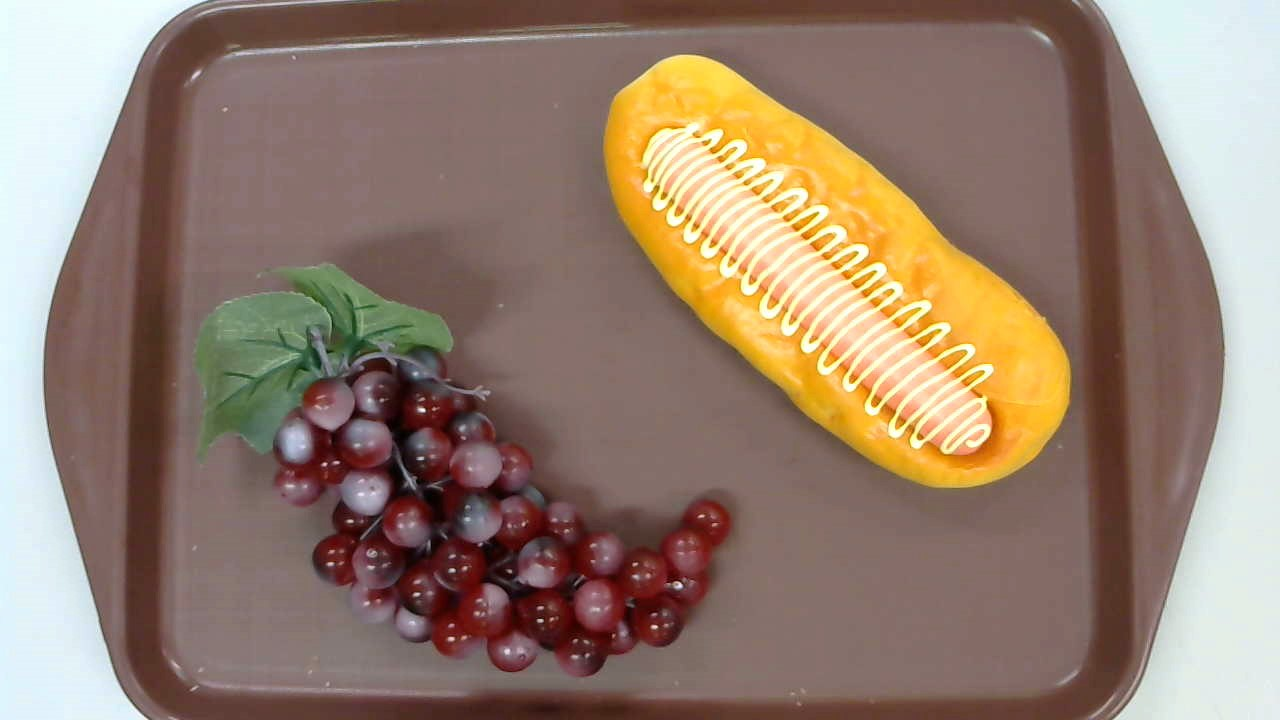grape: (191, 261, 730, 678)
hot dog: (603, 55, 1072, 489)
